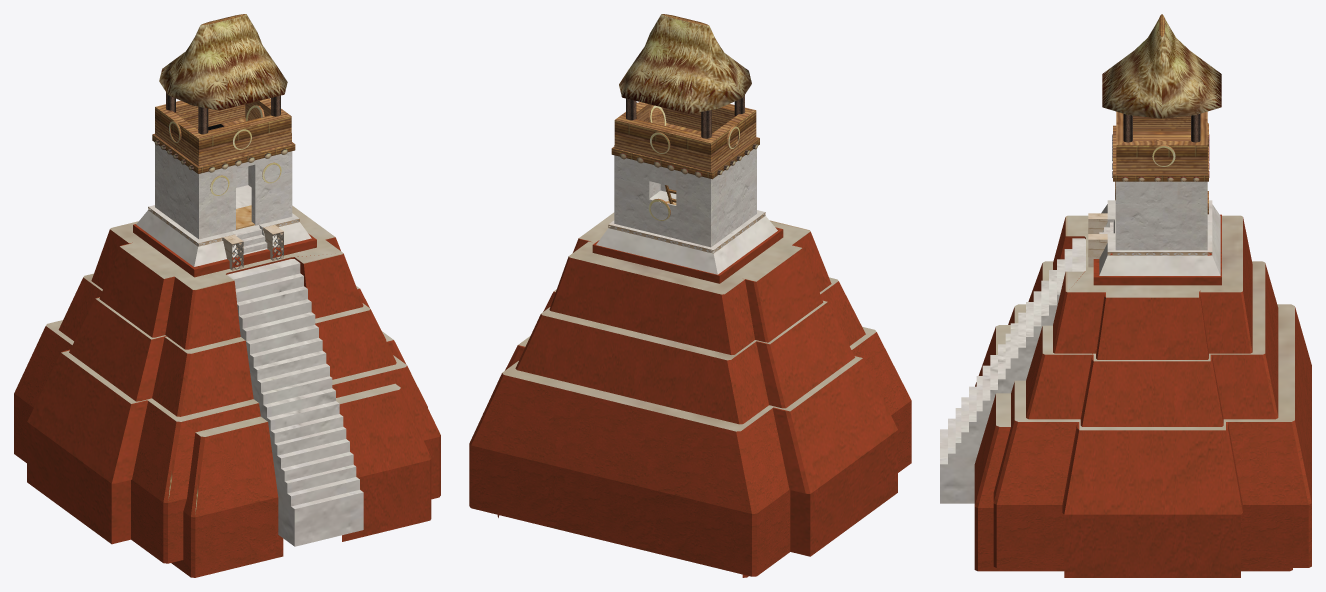
File: elmirador_big_defense_tower.dae
3 views of the same model, side by side, from view 1: azimuth 30°, elevation 25°; view 2: azimuth 150°, elevation 25°; view 3: azimuth 270°, elevation 25° (orthographic). The views are drawn at different scales.
Parts seen in each view (by area): view 1: torre_2.001; view 2: torre_2.001; view 3: torre_2.001.
Boxes of the visible parts, x1,y1,x2,y2 form: torre_2.001: (14, 14, 440, 577); torre_2.001: (469, 14, 911, 577); torre_2.001: (940, 14, 1311, 577).
Size of the model in its own units: 19.81 by 19.31 by 27.78.
